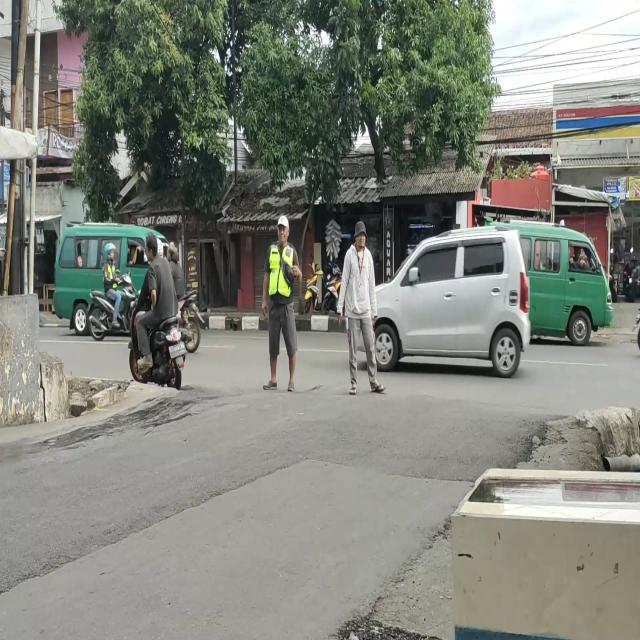helmet: (103, 242, 116, 263)
no-helmet: (145, 233, 159, 263)
